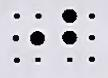binata: (62, 8, 96, 64)
dot_5: (13, 12, 45, 63)
